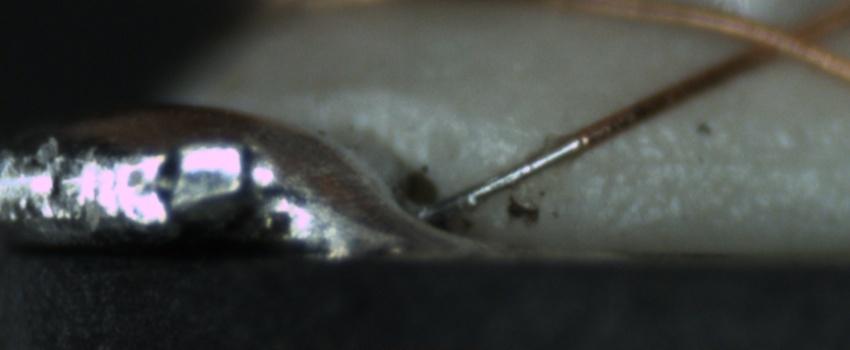CL: (729, 12, 821, 75)
DL: (582, 131, 850, 195)
TS: (418, 137, 580, 221)
TTCW: (415, 114, 619, 218)
